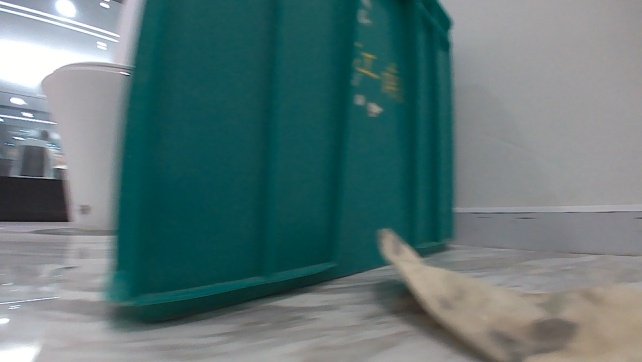socks: (374, 223, 641, 361)
toilet: (37, 57, 135, 233)
